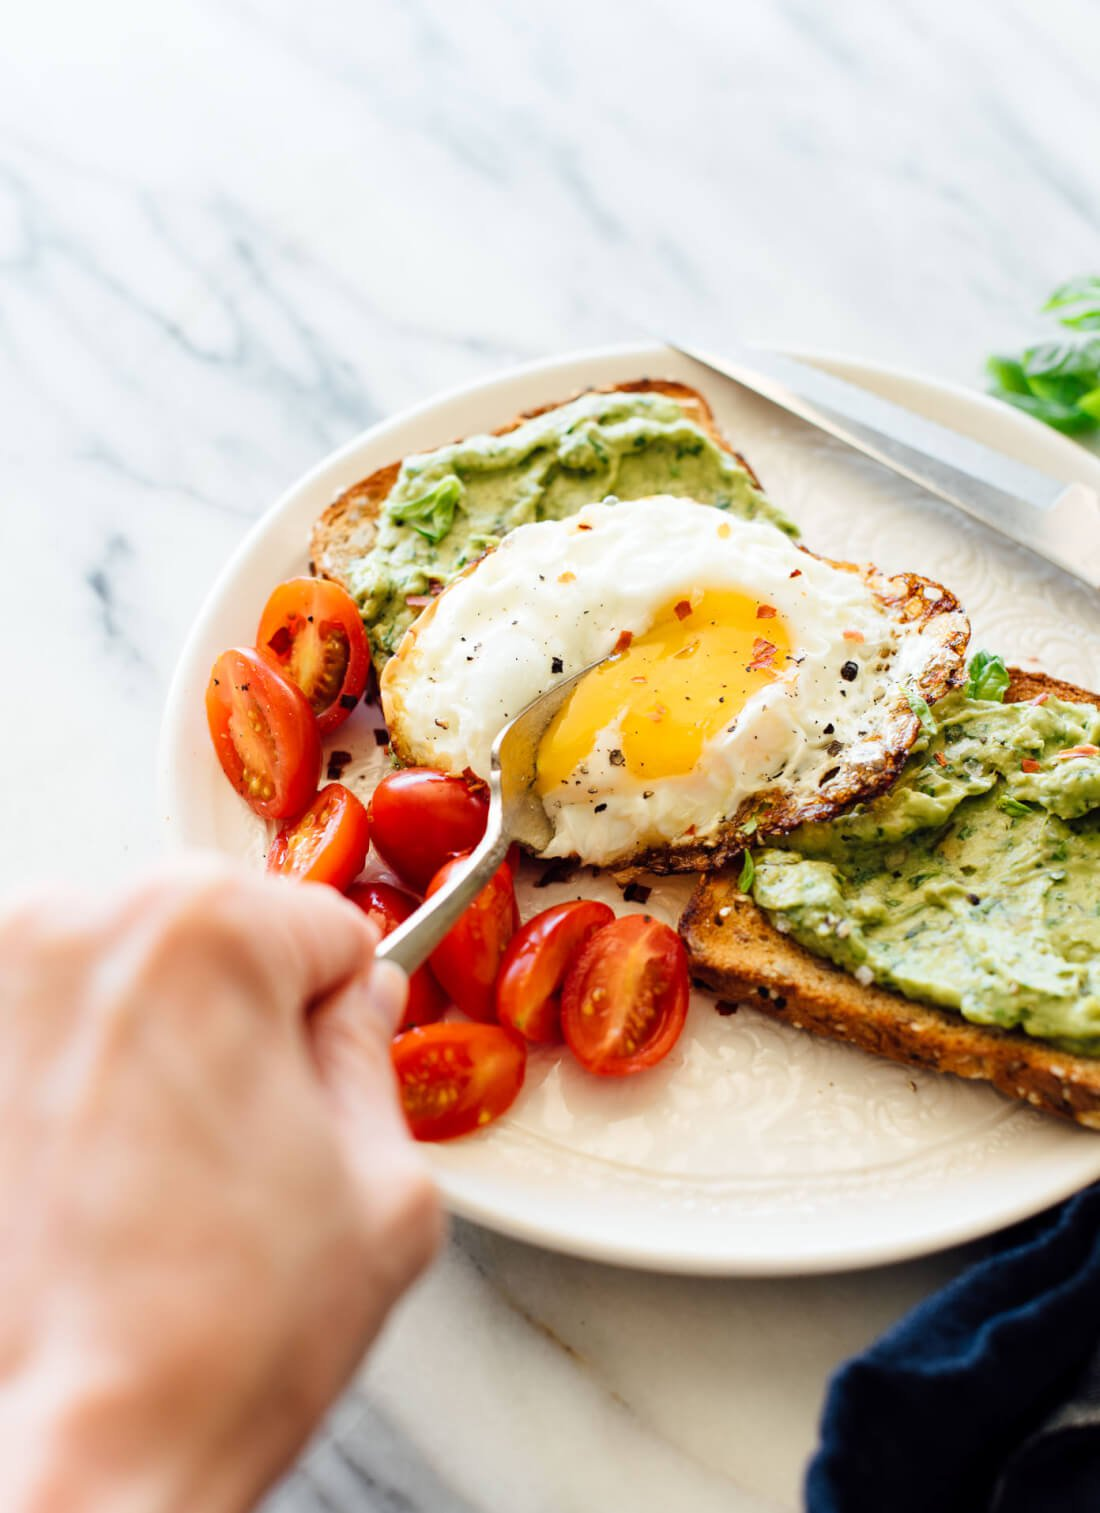fried egg: (443, 531, 874, 818)
slice of bread: (695, 944, 1093, 1125)
